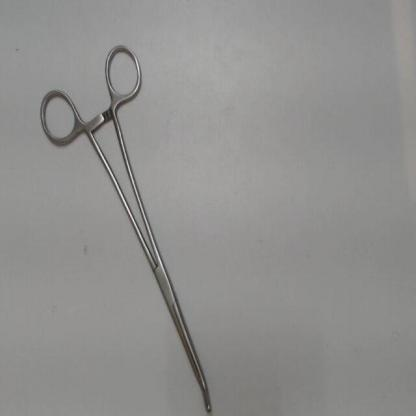Lahey Forceps: (32, 31, 224, 414)
